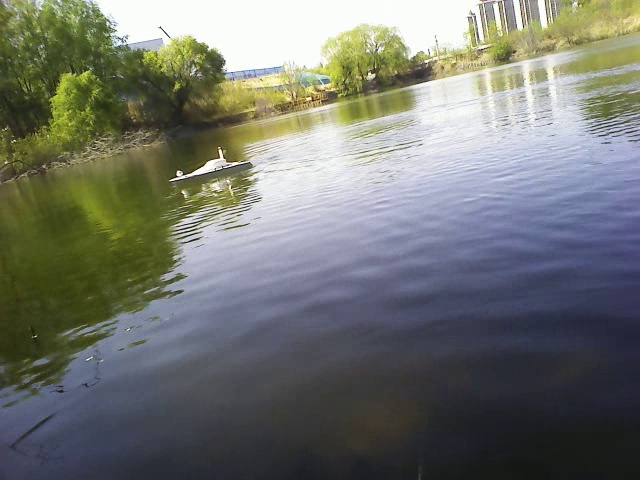boat: (169, 149, 256, 188)
